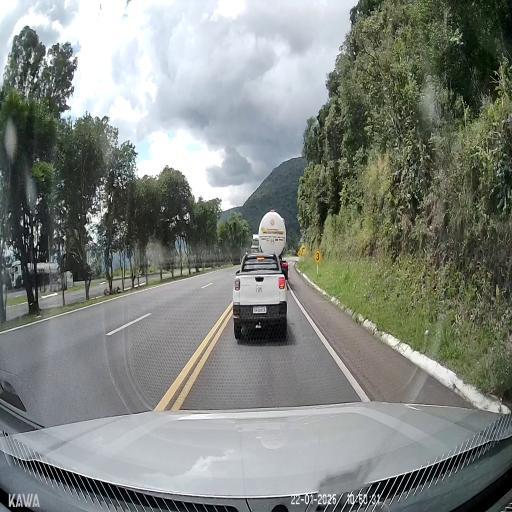A-1b: (299, 244, 306, 256)
